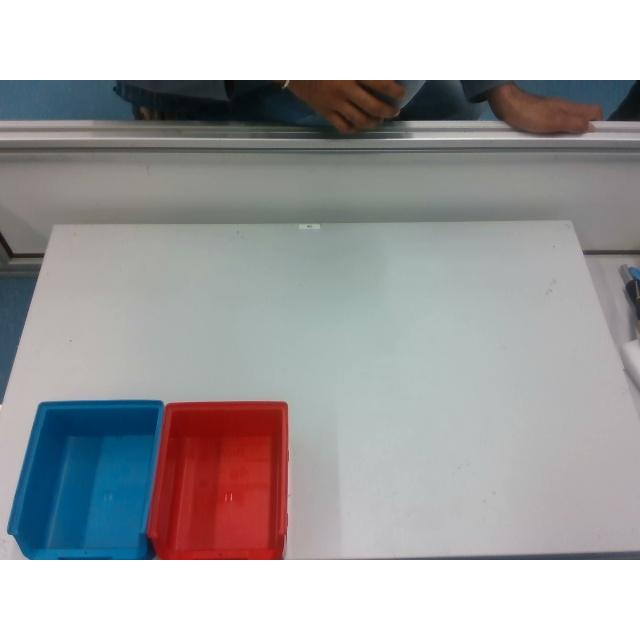container_box_blue: (8, 400, 162, 560)
container_box_red: (148, 402, 288, 558)
